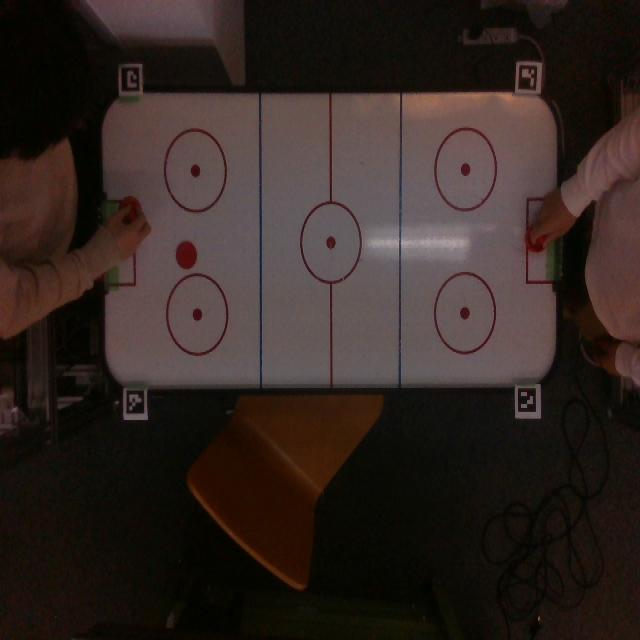puck: (175, 242, 197, 268)
